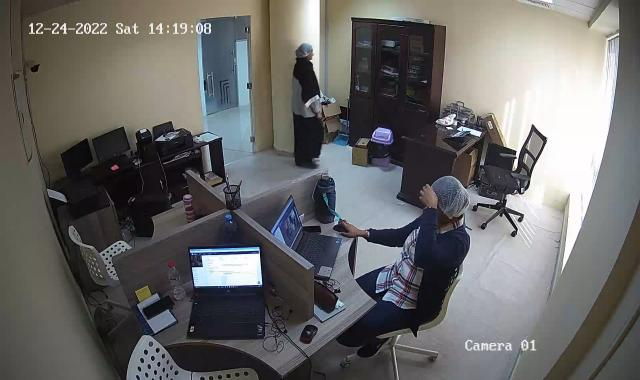hairnet: (434, 173, 472, 218), (296, 40, 314, 63)
